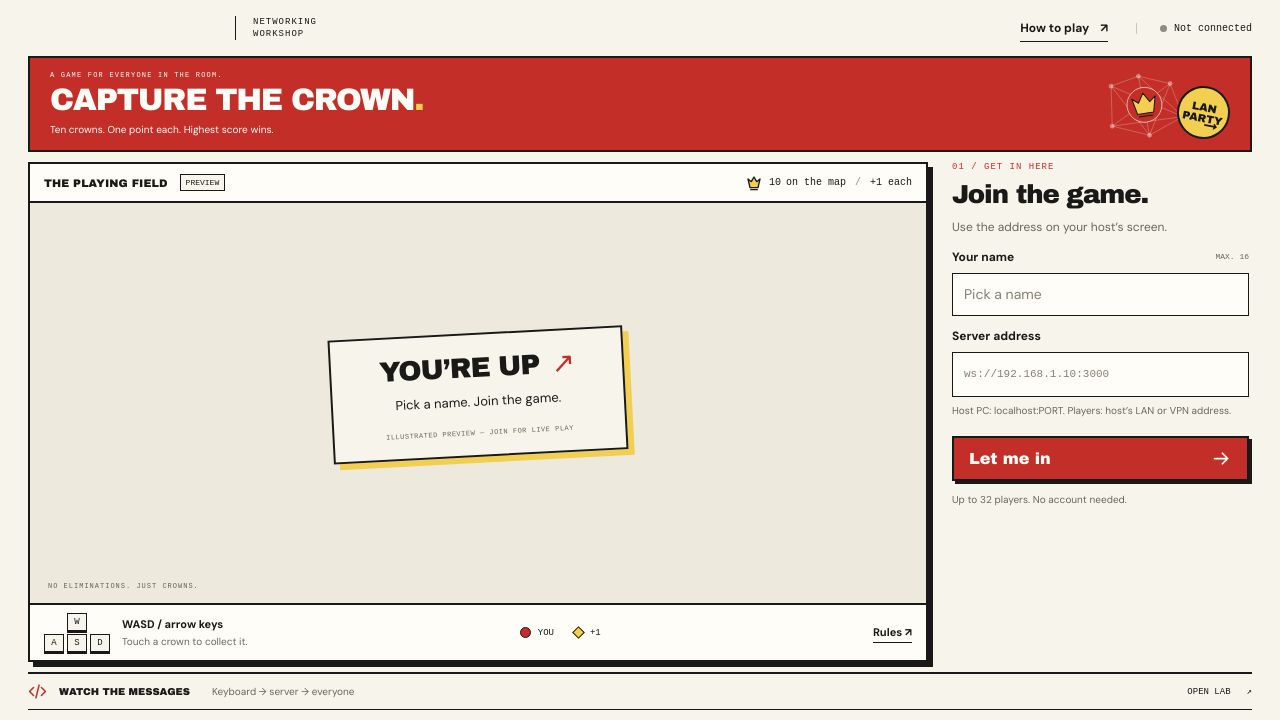
Test: game interface › reports a strategy failure and keeps the player stopped
This screenshot has width=1280, height=720.
Type "Krish" into the field labelled "Your name MAX. 16" at (1100, 294), box x1=952 y1=273 x2=1249 y2=316
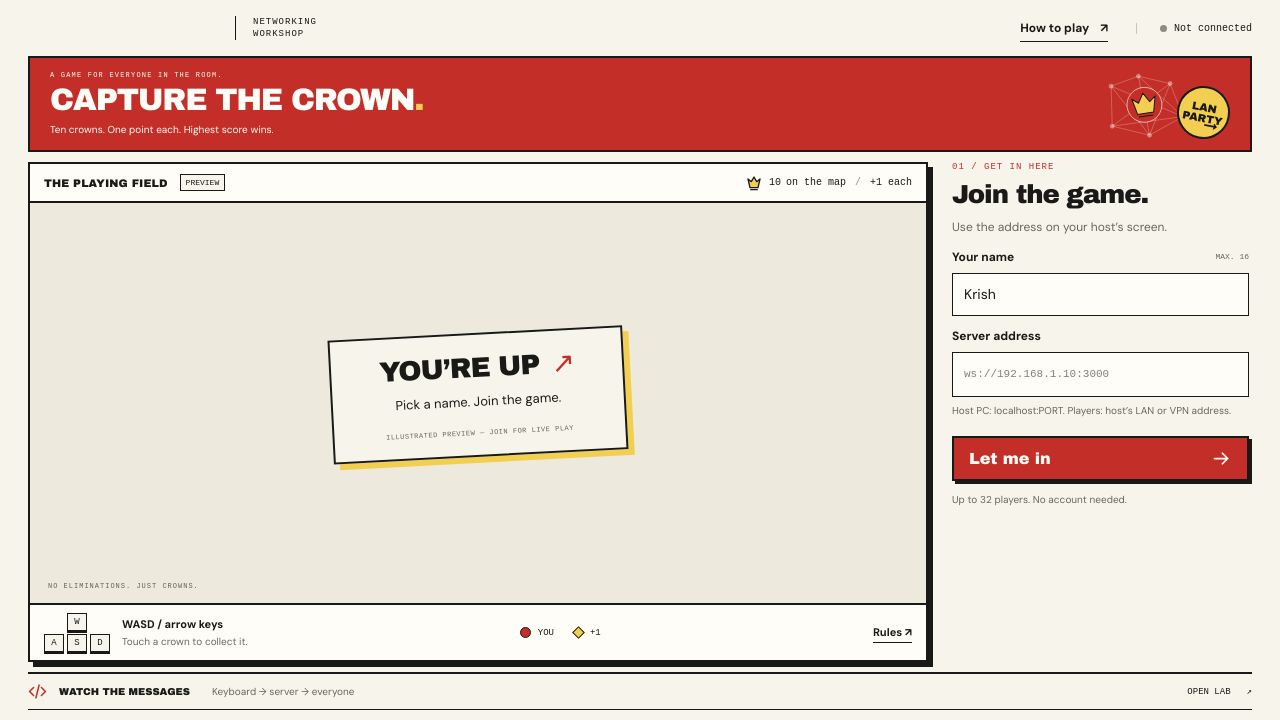
Type "10.1.2.3" into the field labelled "Server address" at (1100, 374), box x1=952 y1=352 x2=1249 y2=397
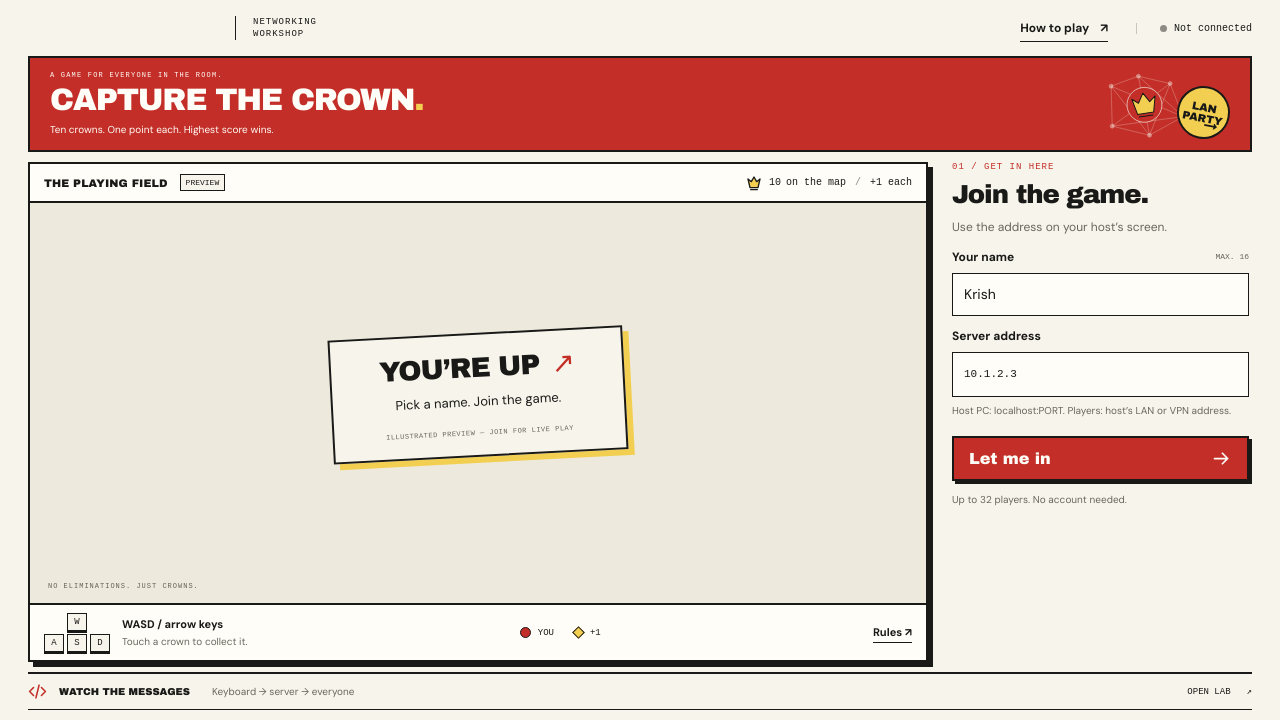
Submit the form with id "joinForm", box x1=952 y1=248 x2=1249 y2=481
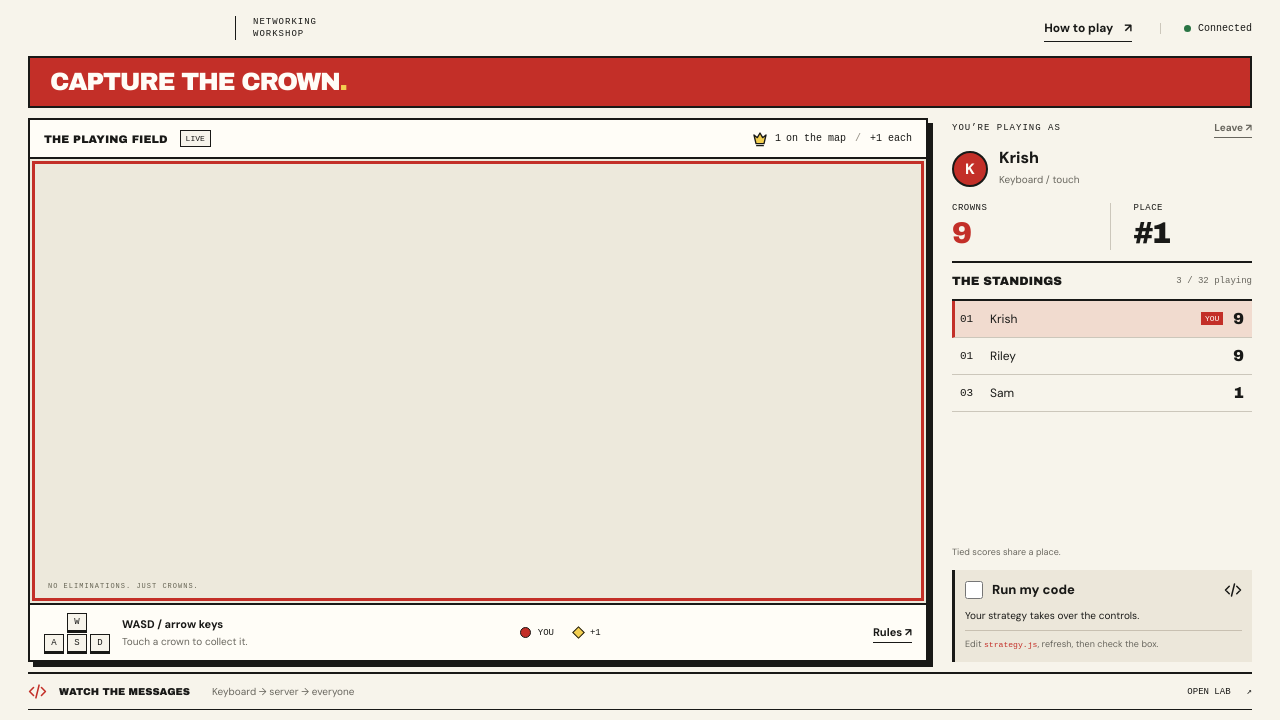
Click the checkbox labelled "Run my code" at (974, 590), box x1=965 y1=581 x2=983 y2=599
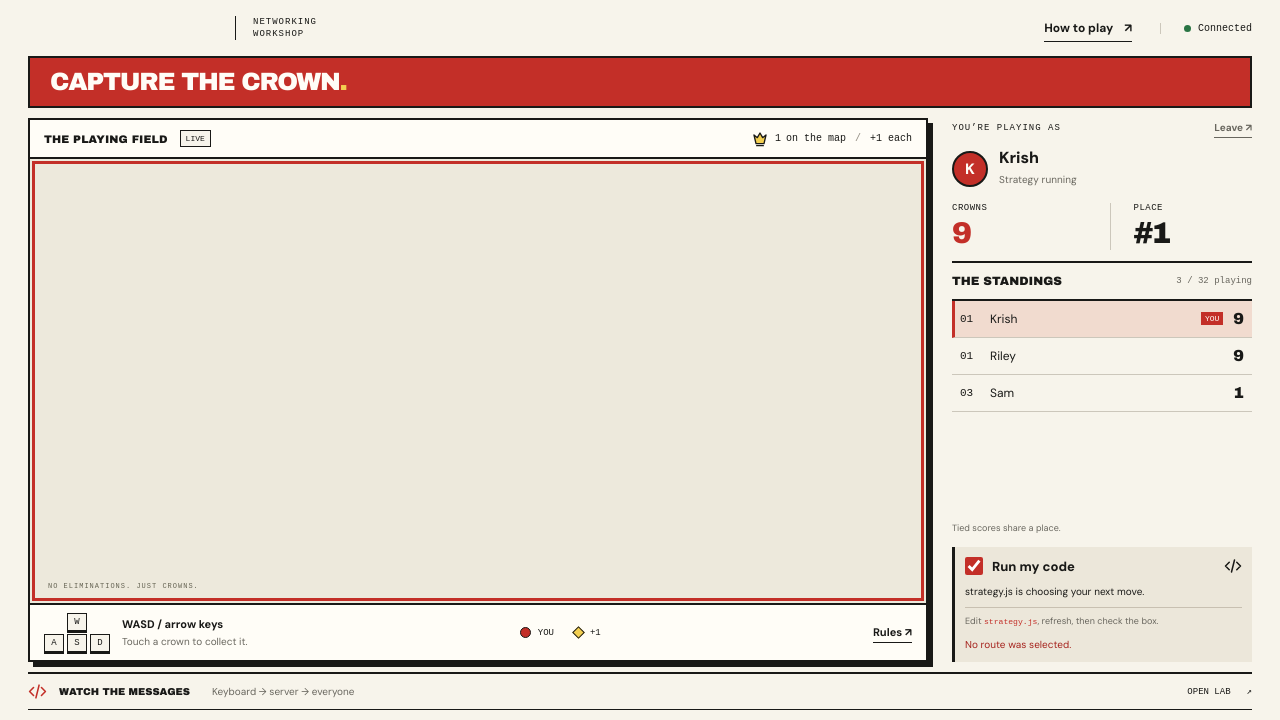
Expected: the message "No route was selected." is shown, x1=965 y1=638 x2=1071 y2=650
